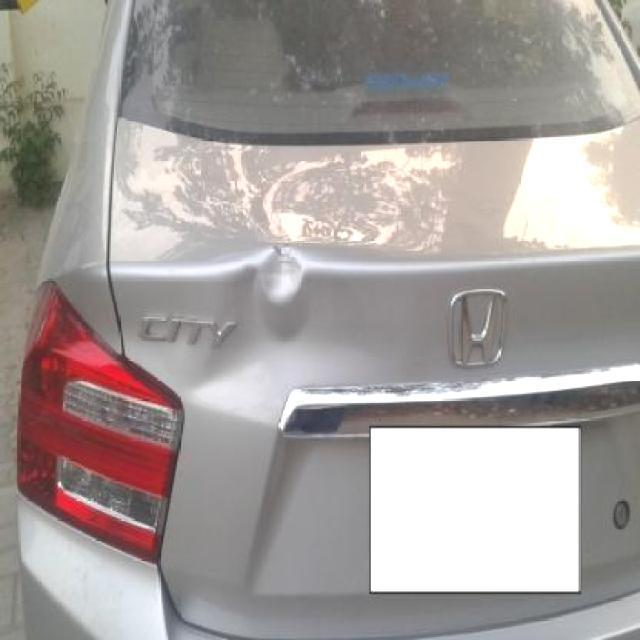minor: (191, 312, 354, 426), (257, 248, 317, 343)
